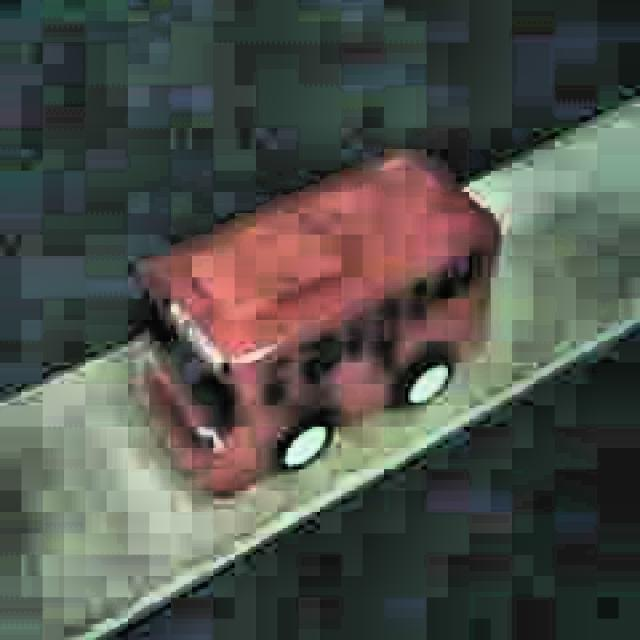bus: (137, 145, 500, 502)
